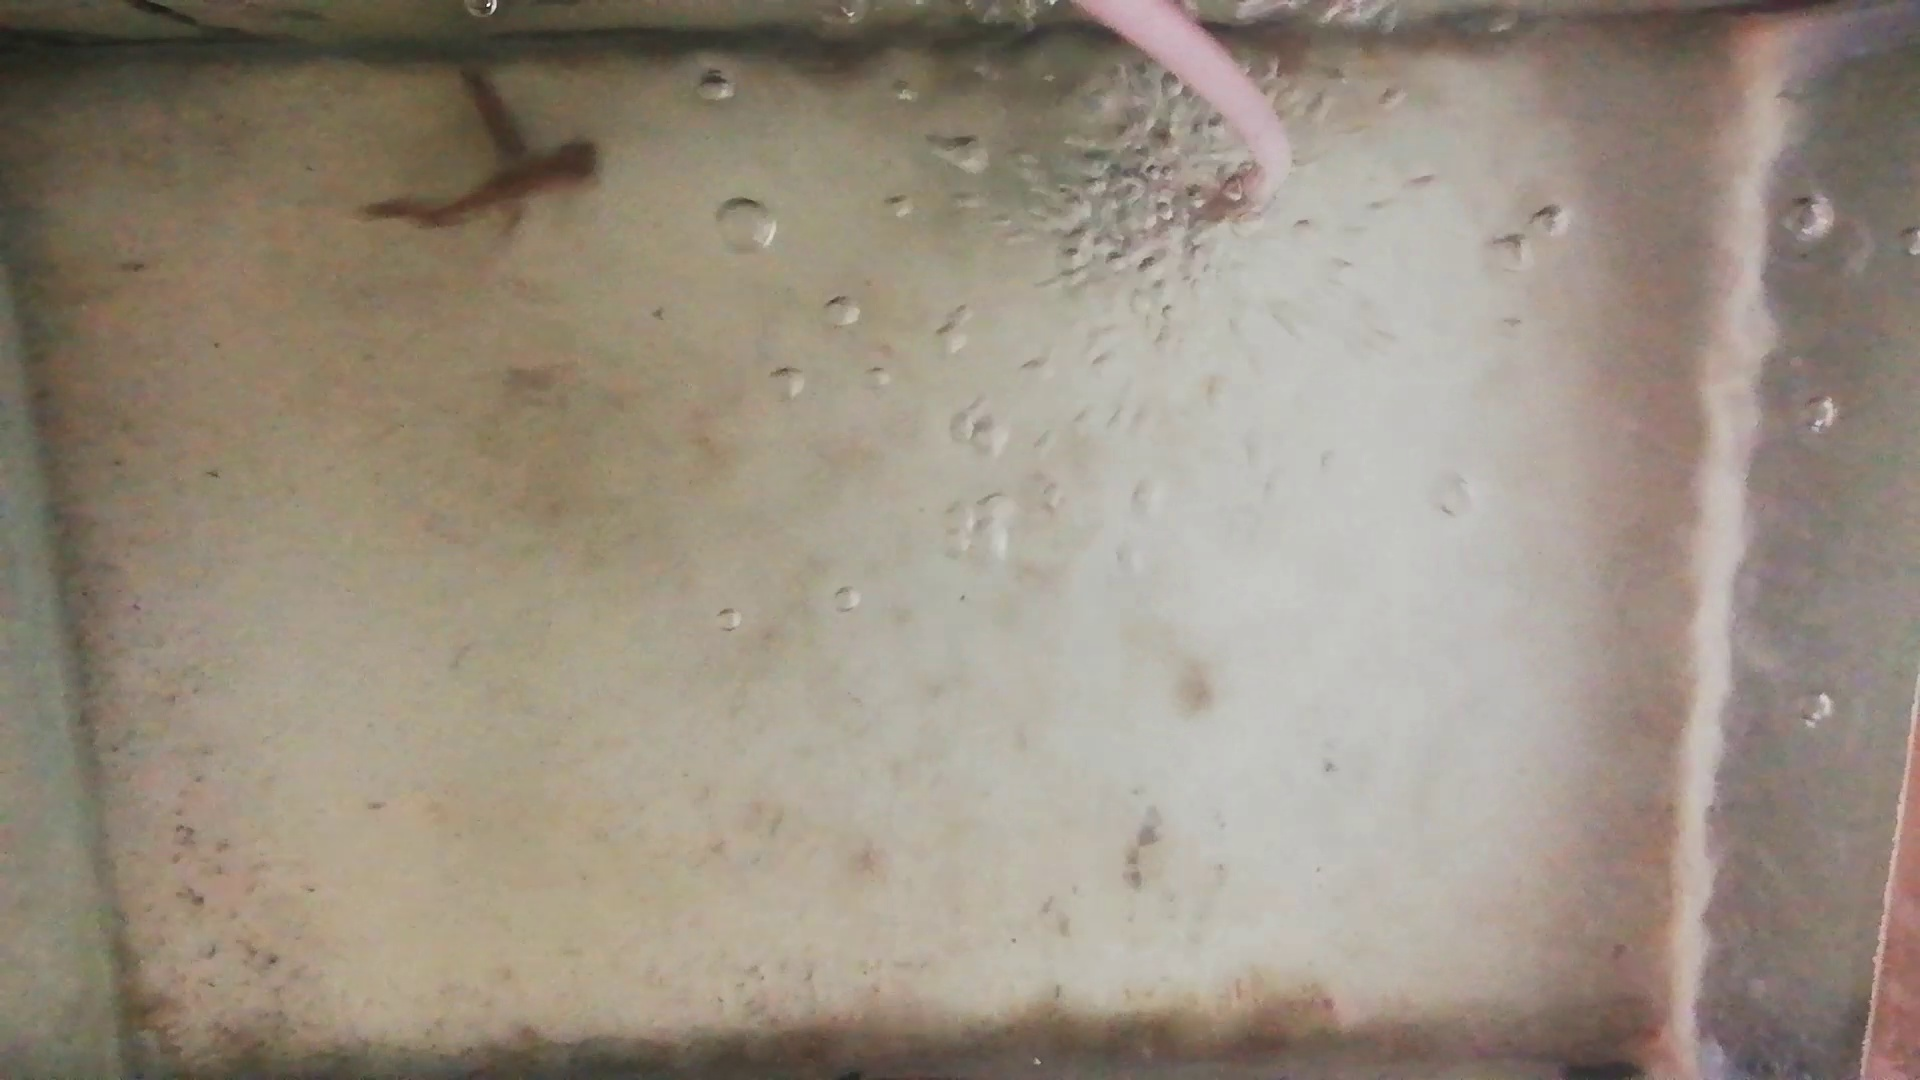fish: (357, 140, 604, 228), (455, 62, 531, 235)
